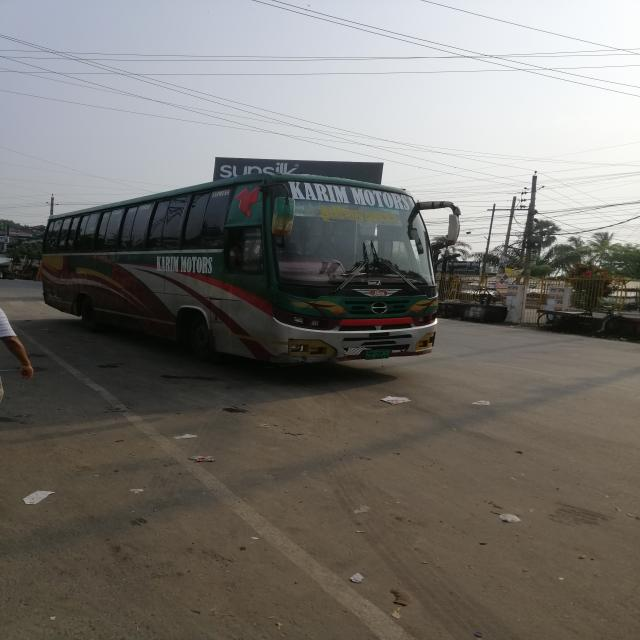Bus: (38, 175, 463, 370)
